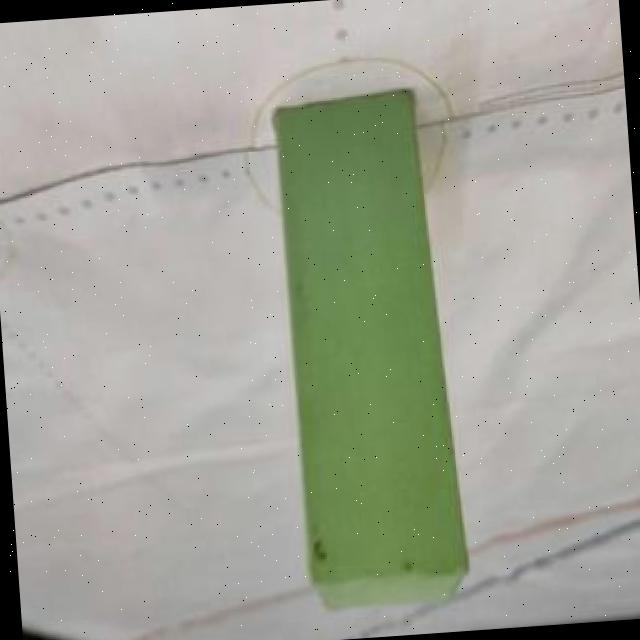greenbox: (268, 74, 470, 608)
